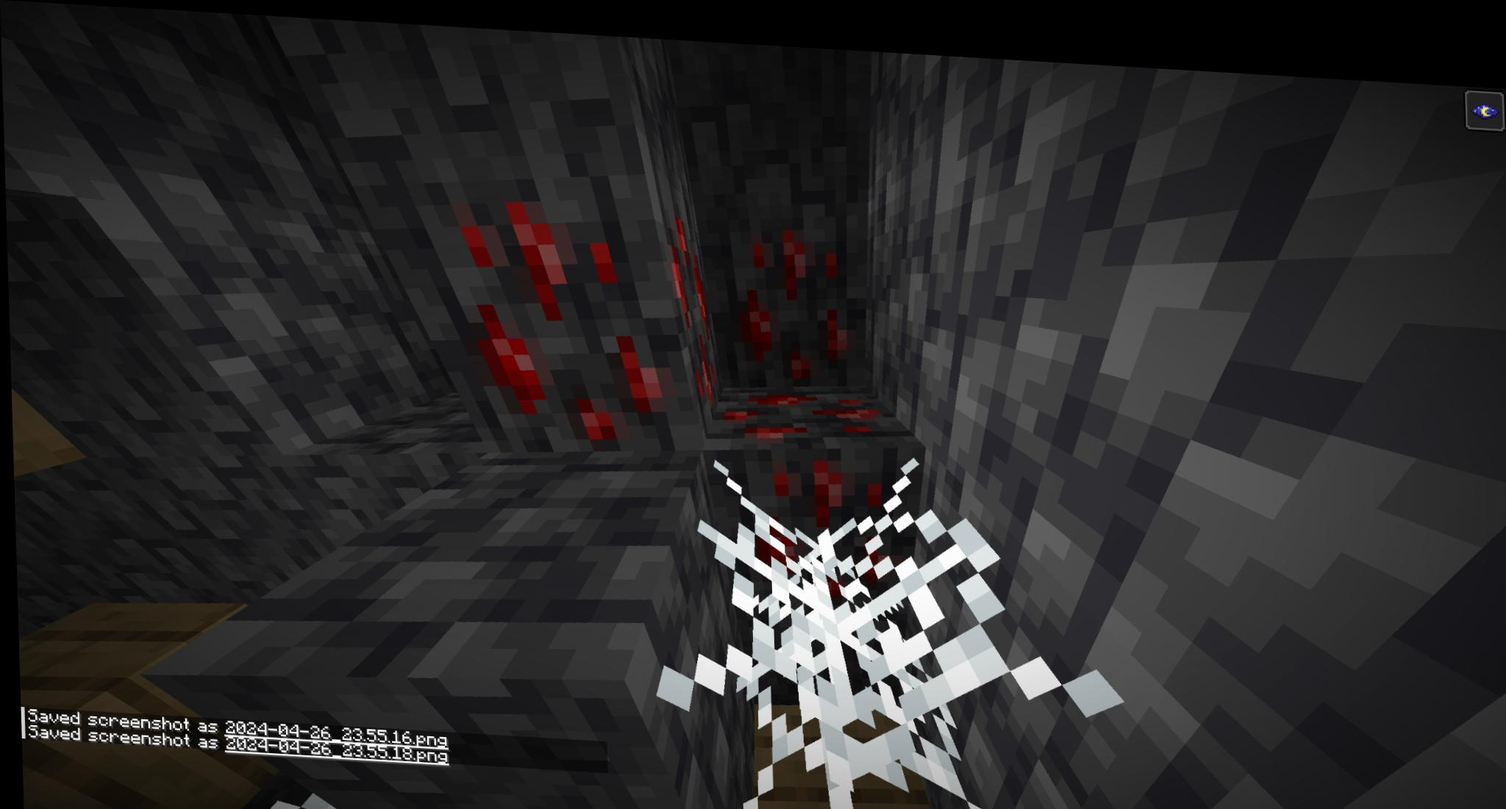redstone ore: (415, 194, 670, 442), (690, 205, 887, 382), (715, 444, 904, 609), (705, 370, 901, 436)
